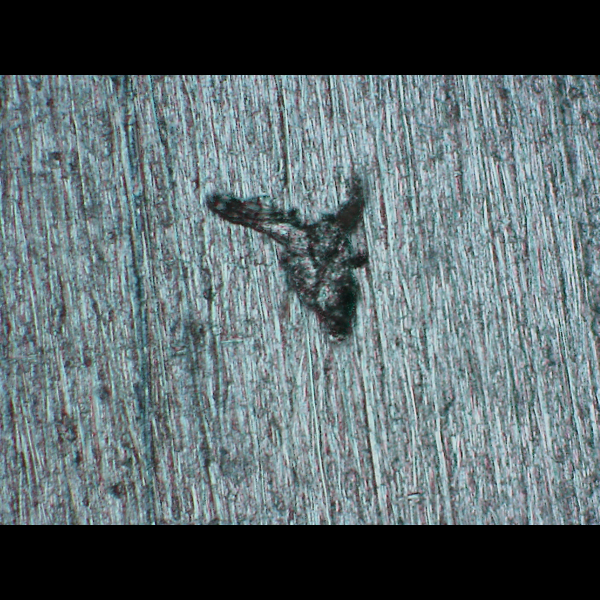d: (200, 161, 377, 348)
